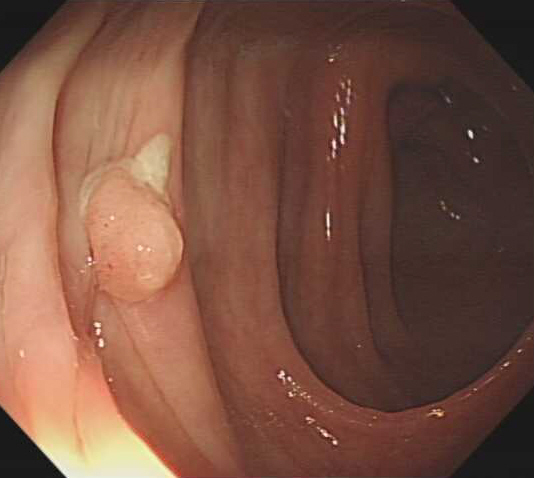adenoma: (75, 164, 188, 301)
